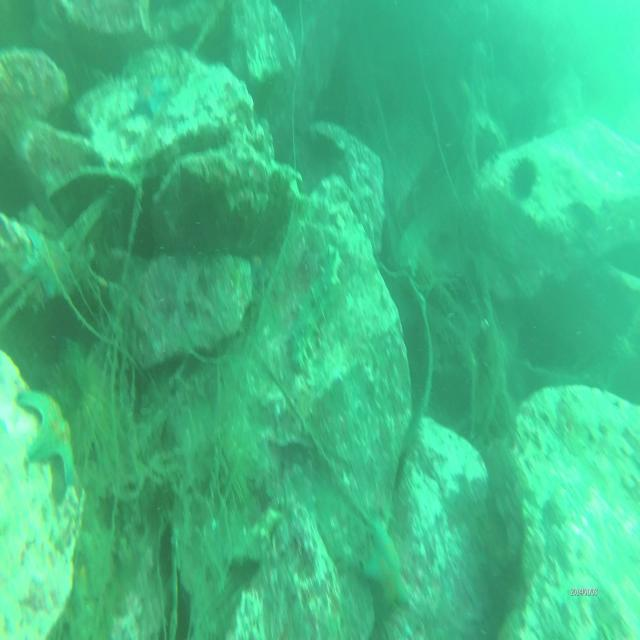echinus: (512, 154, 540, 201)
holothurian: (286, 268, 338, 378)
starfish: (12, 380, 83, 488), (358, 512, 410, 615), (23, 224, 74, 303), (133, 73, 174, 121)
